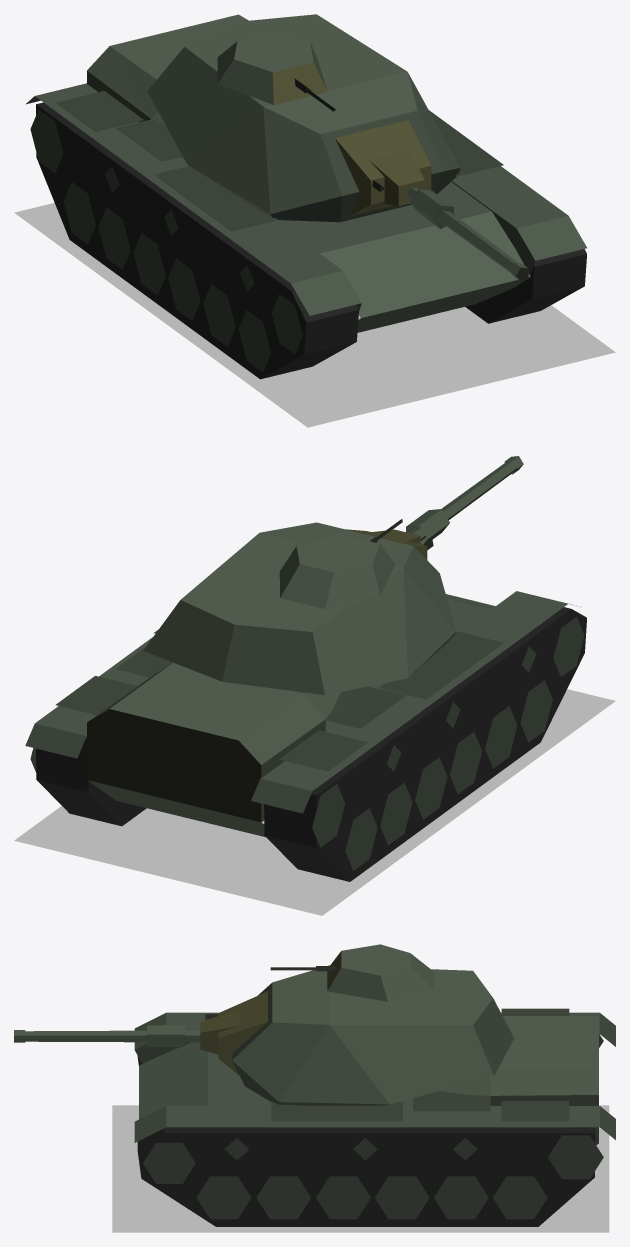
The picture shows the model from 3 angles, top to bottom: view 1: azimuth 30°, elevation 25°; view 2: azimuth 150°, elevation 25°; view 3: azimuth 270°, elevation 25°; orthographic projection. The views are drawn at different scales.
Visible parts, largest first — view 1: Model, turret, Shadow, mgturret, barrel, gun; view 2: Model, turret, Shadow, mgturret, barrel; view 3: Model, turret, Shadow, mgturret, barrel, gun.
Part boxes in pixels (x1,y1,x2,y2): Model: (26,14,586,379); turret: (147,14,460,222); Shadow: (14,203,615,427); mgturret: (217,33,327,104); barrel: (406,187,528,281); gun: (369,150,424,206); Model: (25,591,586,881); turret: (143,522,456,695); Shadow: (14,689,615,915); mgturret: (279,534,395,608); barrel: (406,456,523,544); Model: (134,1008,615,1226); turret: (218,965,514,1105); Shadow: (112,1105,609,1232); mgturret: (327,944,434,1001); barrel: (14,1025,200,1046); gun: (200,1009,239,1054).
Size of the model in its own units: 4.2 by 3.02 by 8.39.
